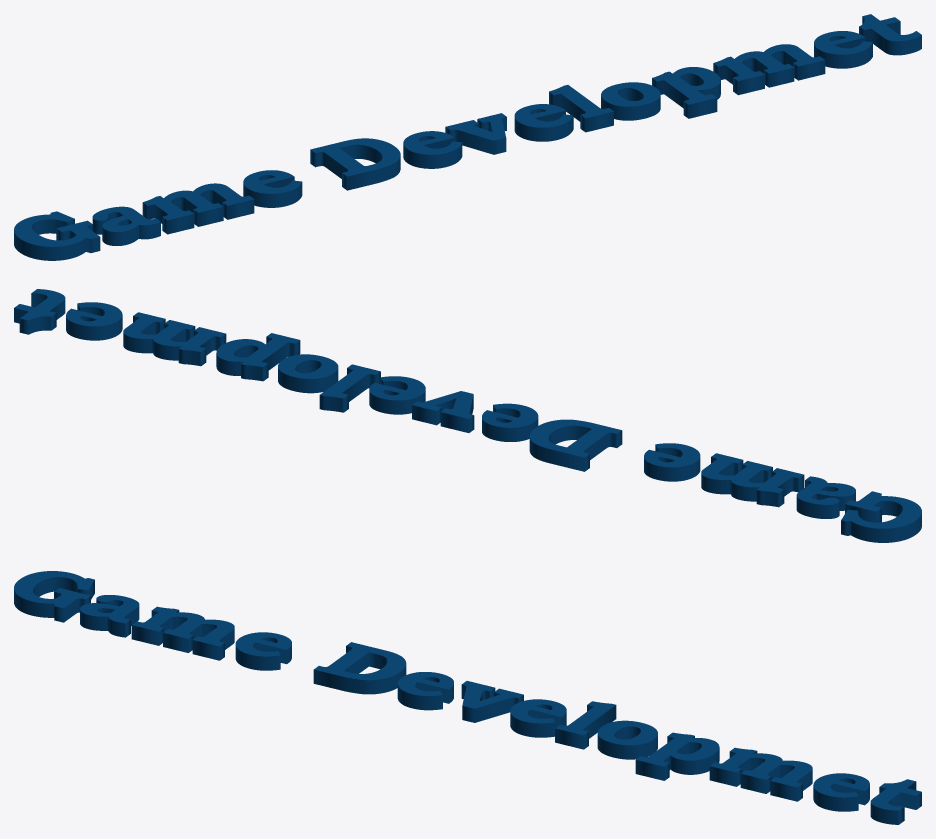
The model's file is game_development.fbx.
The picture shows the model from 3 angles, top to bottom: view 1: azimuth 30°, elevation 25°; view 2: azimuth 150°, elevation 25°; view 3: azimuth 330°, elevation 25°; orthographic projection.
Parts seen in each view (by area): view 1: Text; view 2: Text; view 3: Text.
Part boxes in pixels (left/top/right/bottom): Text: left=14, top=14, right=921, bottom=260; Text: left=14, top=289, right=921, bottom=542; Text: left=14, top=571, right=921, bottom=824.
Bounding box in the file's own units: 659 × 10 × 65.5.
